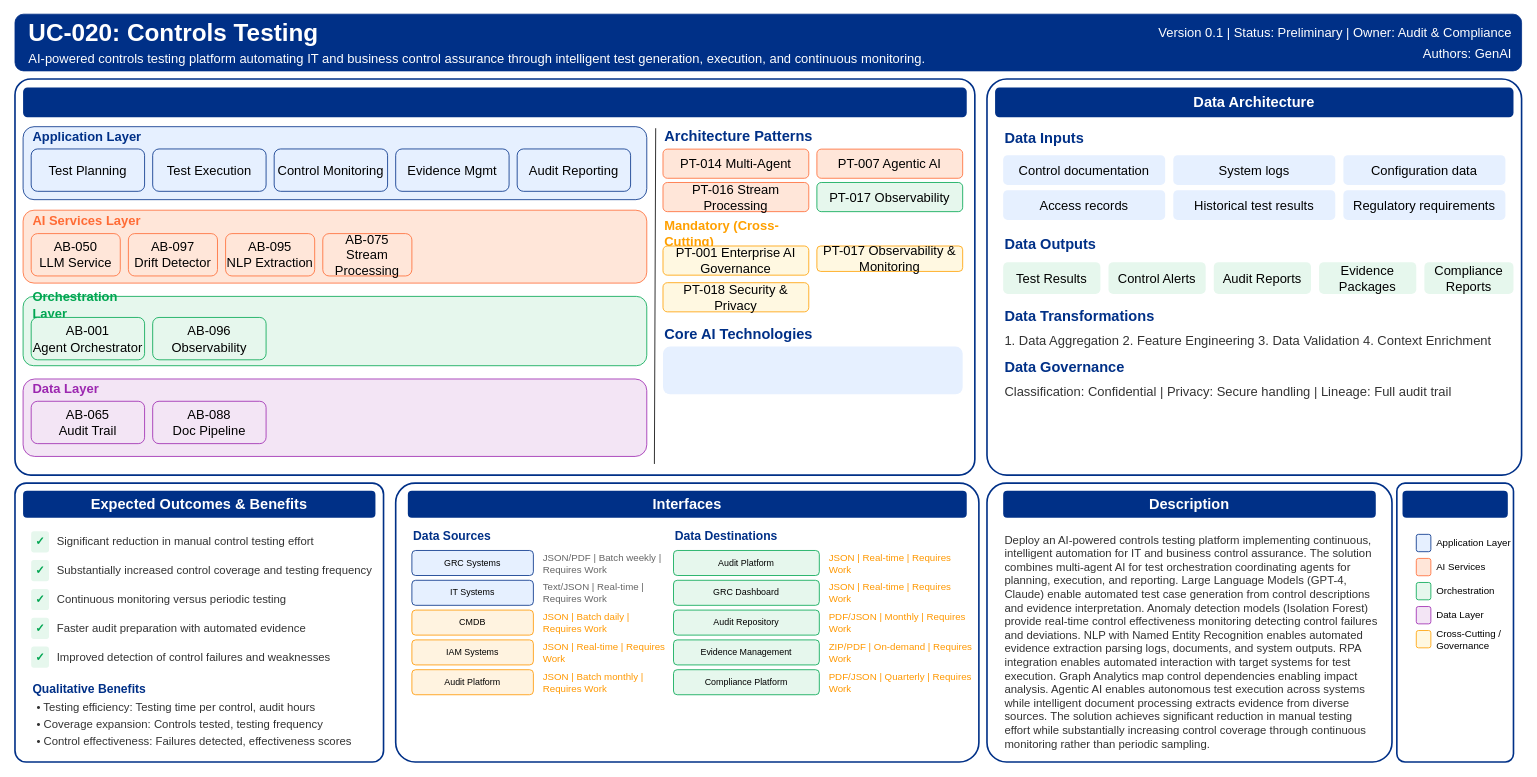
Some shapes in this 1537 by 777 pixel diagram are drawn without their labels. Here are the shapes that lost their labels. From the top down, the centre of each, then its label:
(494,102): Solution
(812,370): GPT-4/Claude | Isolation Forest | RPA Integration
(1454,503): Legend
